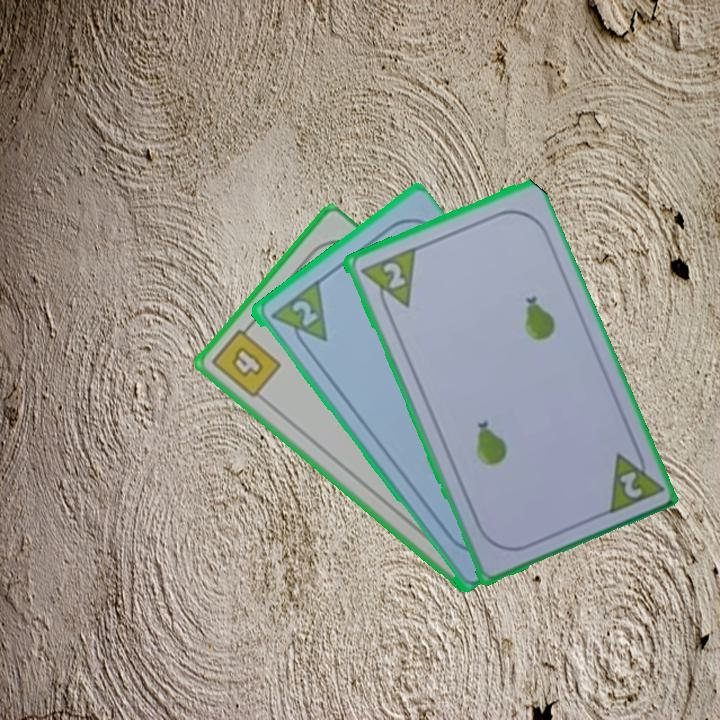2p: (602, 440, 664, 517), (355, 243, 418, 318), (287, 296, 321, 329)
4b: (207, 319, 284, 401)
